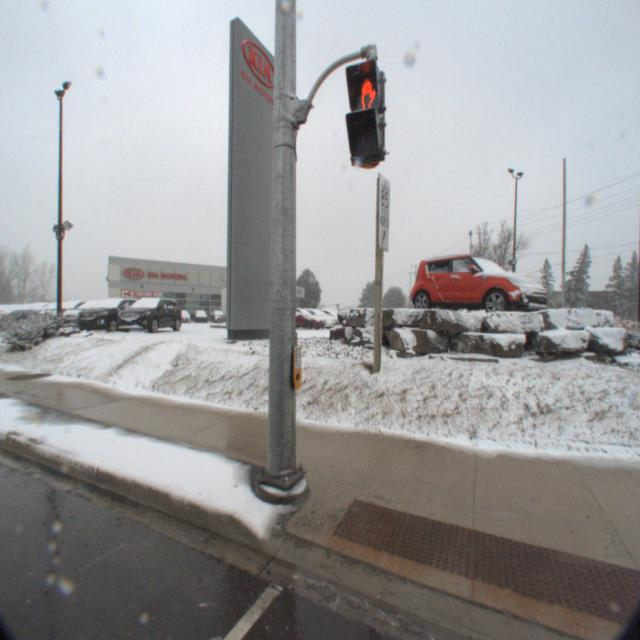Car: (401, 240, 552, 320), (63, 293, 151, 336), (107, 293, 185, 338), (51, 298, 134, 333), (27, 299, 109, 332), (268, 306, 327, 332), (290, 307, 336, 330), (304, 308, 348, 328)
